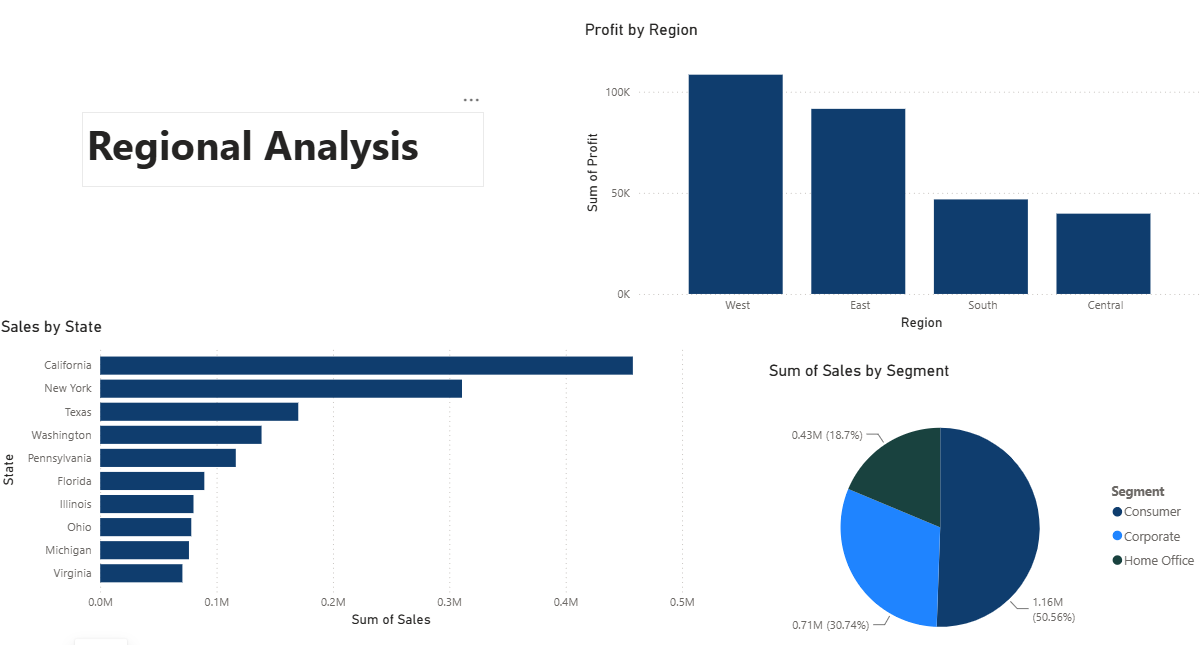

What the dashboard file says about the page in this screenshot:
{"tool":"powerbi","page":{"name":"Page 2","canvas":[1280,720],"ordinal":1},"visuals":[{"type":"clusteredBarChart","title":" Sales by State","fields":{"Category":["Sample - Superstore.State"],"Y":["Sum(Sample - Superstore.Sales)"]},"box":[0,341.1,743.3,332.2],"z":0},{"type":"clusteredColumnChart","title":" Profit by Region","fields":{"Category":["Sample - Superstore.Region"],"Y":["Sum(Sample - Superstore.Profit)"]},"box":[616.7,27.8,663.3,332.2],"z":1000},{"type":"pieChart","fields":{"Category":["Sample - Superstore.Segment"],"Y":["Sum(Sample - Superstore.Sales)"]},"box":[811.1,387.8,468.9,332.2],"z":2000},{"type":"textbox","box":[90.8,124.6,424.4,79.2],"z":3000}]}

Visuals, with their boxes on the page's 1280x720 design canvas (x1, y1, x2, y2). These are canvas units, not pixel positions in the 1201x645 screenshot, which may show the page scaled, cropped or inside an application window:
" Sales by State" clusteredBarChart: 0, 341, 743, 673
" Profit by Region" clusteredColumnChart: 617, 28, 1280, 360
pieChart - Sample - Superstore.Segment x Sum(Sample - Superstore.Sales): 811, 388, 1280, 720
textbox: 91, 125, 515, 204
